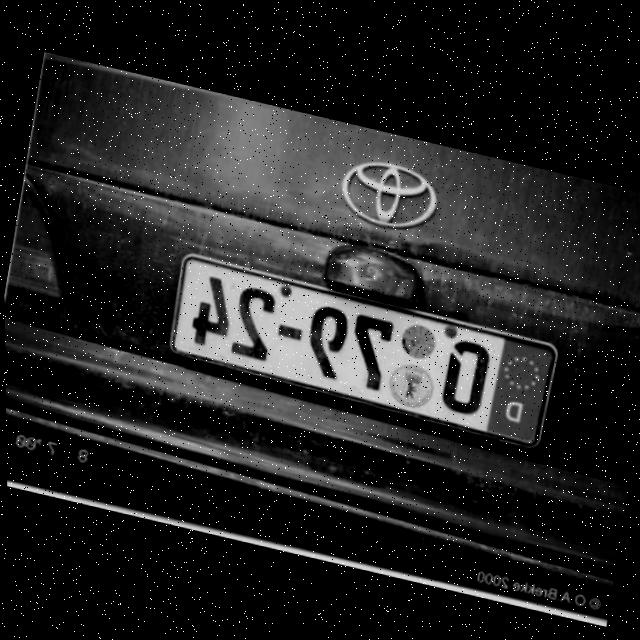license-plates: (169, 255, 555, 447)
